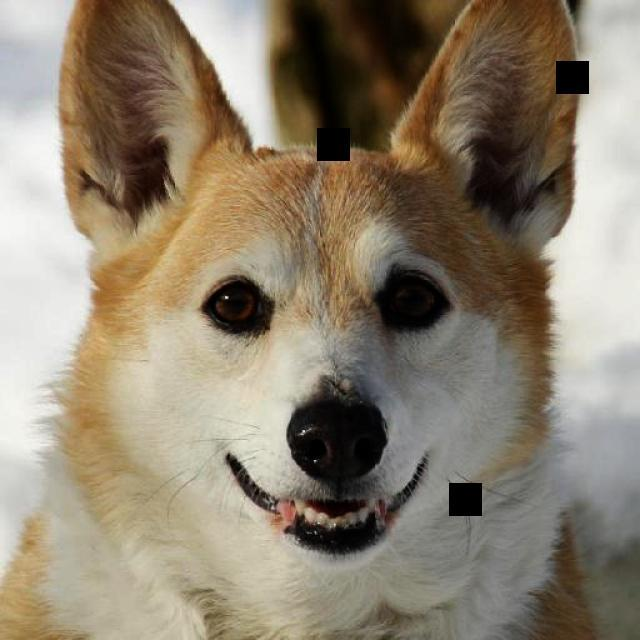adult_dog: (2, 0, 615, 640)
